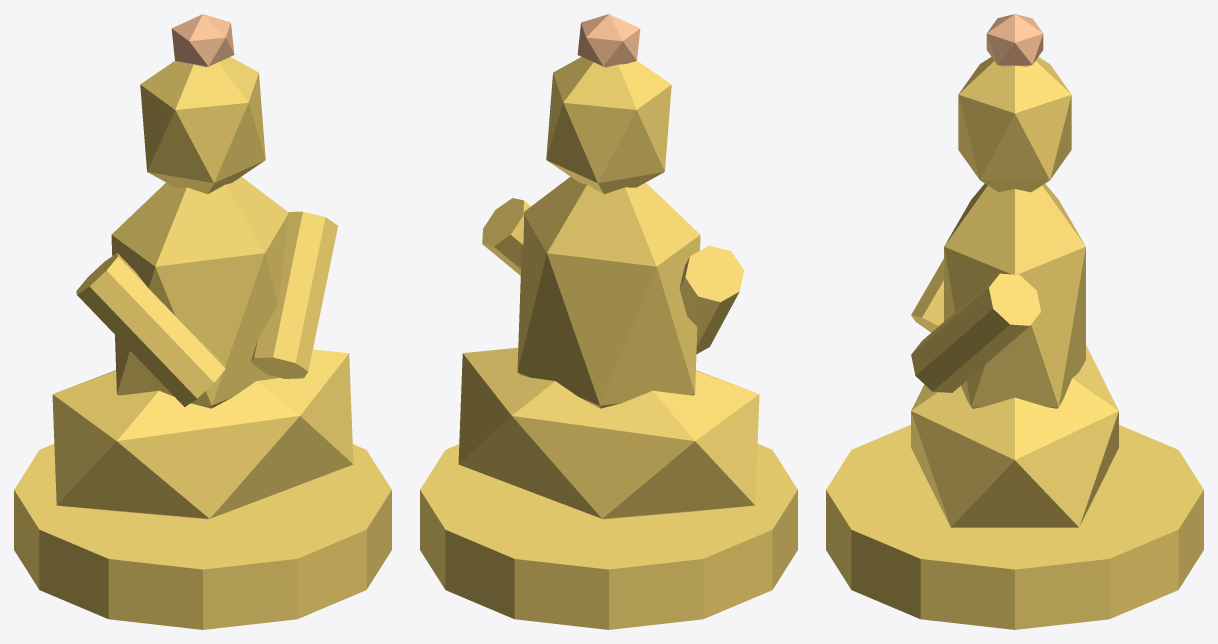
3 views of the same model, side by side, from view 1: azimuth 30°, elevation 25°; view 2: azimuth 150°, elevation 25°; view 3: azimuth 270°, elevation 25° (orthographic).
Visible parts, largest first — view 1: Lotus base, Folded legs, Robe torso, Head, Folded arm, Folded arm.001, Hair knot; view 2: Lotus base, Folded legs, Robe torso, Head, Folded arm, Hair knot, Folded arm.001; view 3: Lotus base, Folded legs, Robe torso, Head, Folded arm.001, Hair knot, Folded arm.
Boxes of the visible parts, x1,y1,x2,y2 form: Lotus base: (14, 444, 391, 629); Folded legs: (52, 349, 353, 519); Robe torso: (111, 176, 288, 408); Head: (140, 57, 265, 194); Folded arm: (76, 253, 225, 407); Folded arm.001: (251, 211, 337, 378); Hair knot: (171, 14, 234, 67); Lotus base: (420, 444, 797, 629); Folded legs: (458, 347, 759, 519); Robe torso: (517, 176, 700, 408); Head: (546, 57, 671, 194); Folded arm: (679, 245, 744, 354); Hair knot: (577, 14, 640, 67); Folded arm.001: (482, 198, 530, 275); Lotus base: (826, 425, 1203, 629); Folded legs: (911, 345, 1118, 527); Robe torso: (944, 183, 1085, 408); Head: (958, 57, 1071, 192); Folded arm.001: (911, 273, 1040, 392); Hair knot: (986, 14, 1043, 66); Folded arm: (911, 259, 943, 332).
Size of the model in its own units: 68 by 107 by 68.
